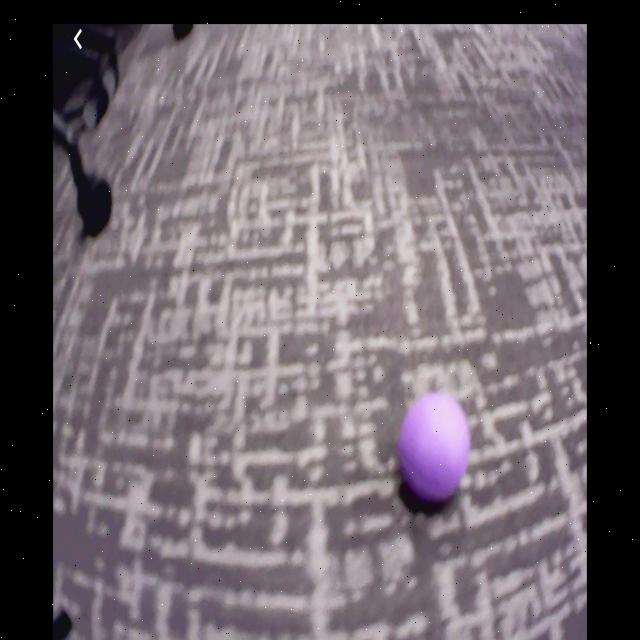ball: (397, 395, 472, 502)
